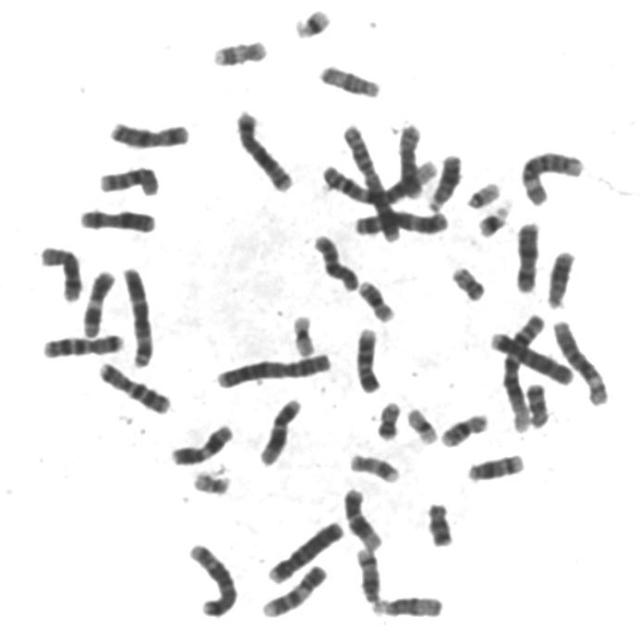A1: (497, 306, 550, 434), (318, 153, 442, 205)
A2: (338, 118, 404, 244), (212, 345, 337, 390)
A3: (117, 258, 159, 369), (348, 202, 454, 238)
B4: (263, 513, 347, 586), (485, 324, 579, 386)
B5: (231, 103, 298, 193), (184, 536, 242, 619)
C10: (308, 227, 363, 293), (94, 158, 164, 198)
C11: (166, 417, 238, 467), (79, 264, 119, 338)
C12: (256, 391, 306, 467), (339, 481, 387, 552)
C6: (549, 313, 613, 407), (516, 144, 588, 208)
C7: (94, 355, 175, 416), (38, 326, 128, 359)
C8: (35, 238, 87, 304), (393, 116, 428, 200)
C9: (258, 558, 332, 619), (351, 320, 386, 394)
D13: (424, 146, 466, 212), (543, 243, 580, 310)
D14: (463, 446, 529, 484), (352, 542, 385, 607)
D15: (315, 57, 386, 99), (367, 588, 448, 620)
E16: (437, 406, 494, 448), (354, 273, 399, 324)
E17: (208, 32, 272, 68), (346, 447, 404, 484)
E18: (422, 495, 458, 549), (522, 376, 553, 429)
F19: (403, 401, 442, 445), (288, 307, 320, 358)
F20: (447, 258, 490, 302), (372, 394, 406, 442)
G21: (473, 193, 515, 239), (289, 1, 335, 40)
G22: (463, 174, 505, 210), (188, 464, 235, 496)
X: (74, 202, 160, 234), (511, 214, 545, 294)
